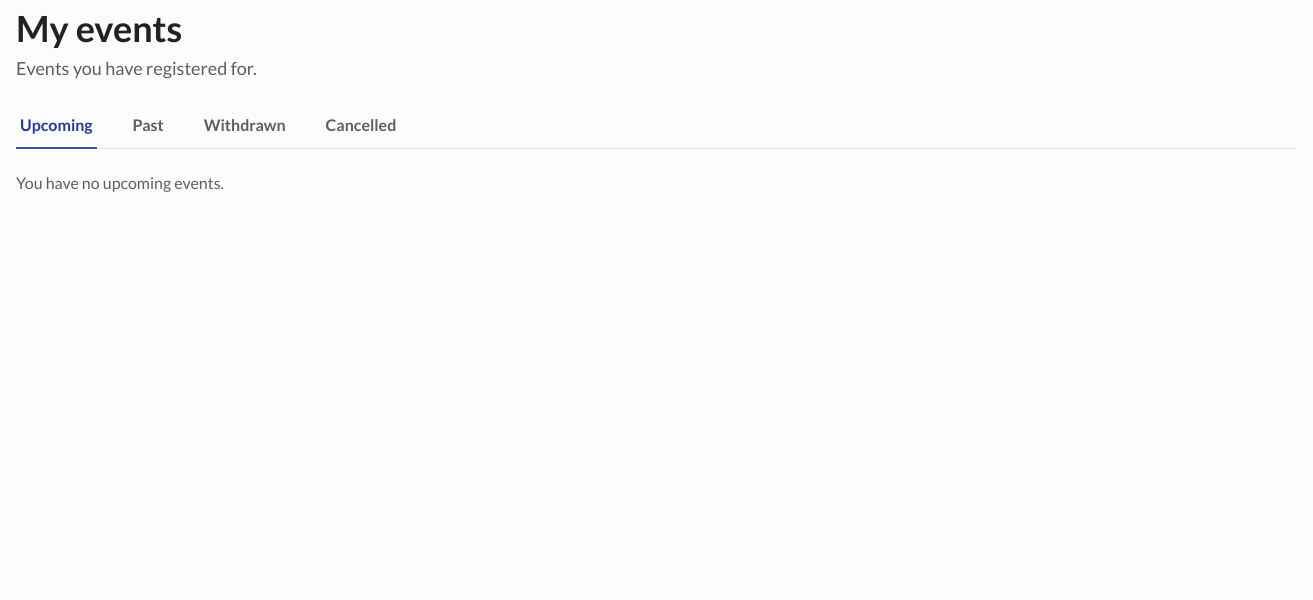
Test: AttendeeEventsView › puts registrations for events the organiser cancelled under Cancelled, apart from withdrawals
Click the tab "Withdrawn" at (245, 126), box [200,103,290,149]
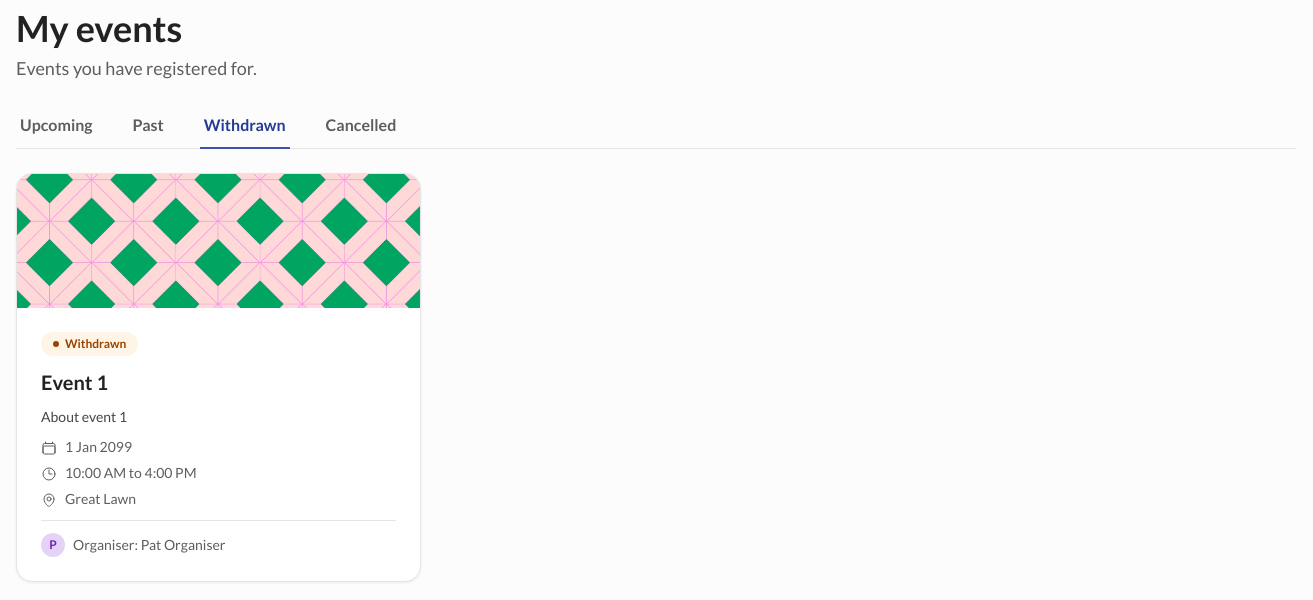
Click the tab "Cancelled" at (361, 126), box [322,103,400,149]
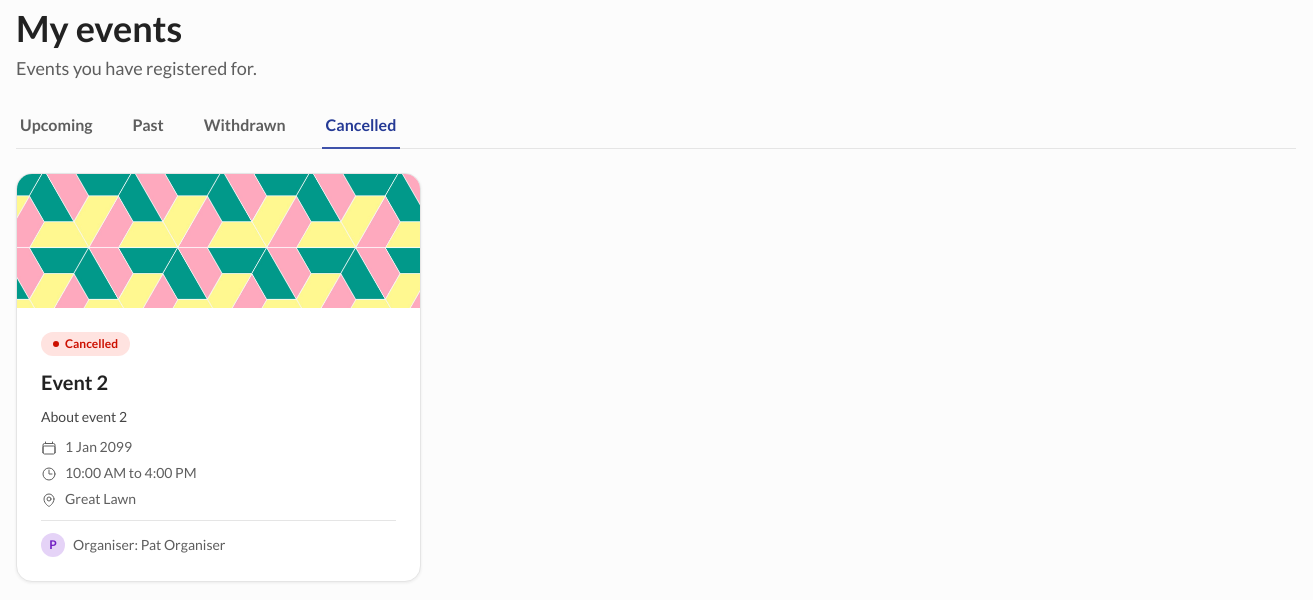
Check: the element with class "badge" reads "Cancelled", box [65,336,118,351]
